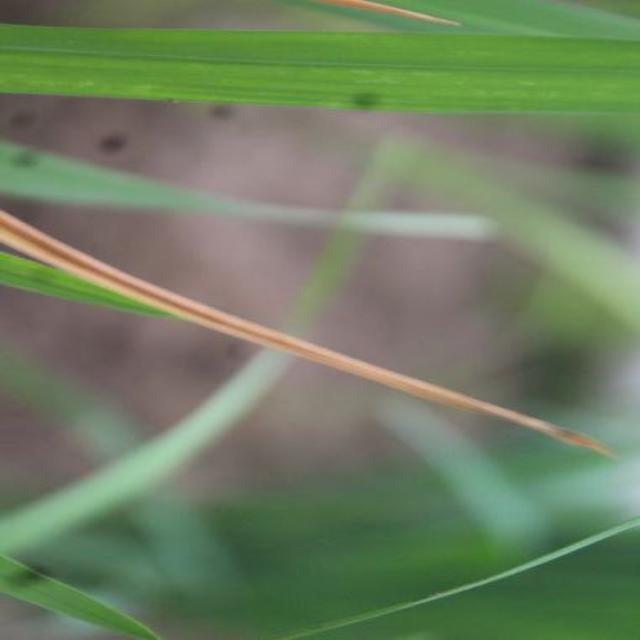Rice Tungro: (2, 203, 613, 463)
